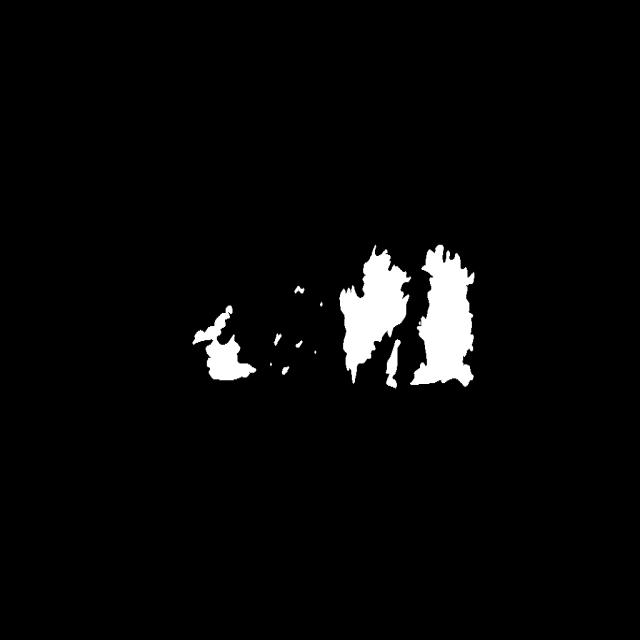fire: (173, 251, 494, 470)
